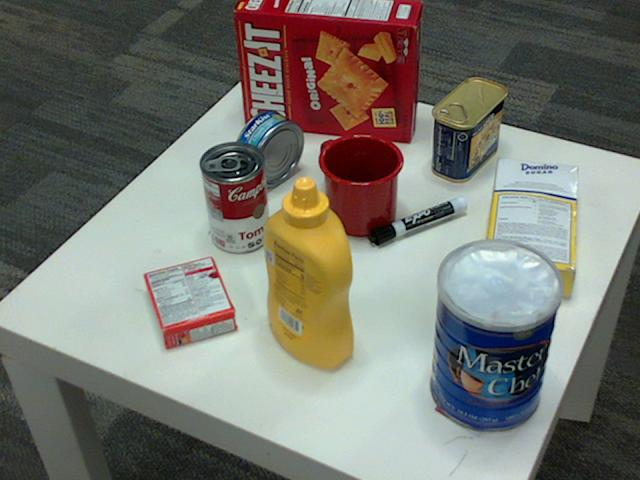cracker_box: (235, 0, 422, 141)
gelatin_box: (139, 255, 233, 348)
large_marker: (369, 200, 468, 244)
master_chef_can: (431, 240, 566, 434)
mug: (316, 132, 403, 235)
mustard_bottle: (262, 178, 352, 369)
potted_meat_can: (430, 79, 505, 182)
sugar_box: (479, 157, 577, 300)
tomato_soup_can: (199, 142, 269, 254)
tuna_fish_can: (232, 109, 303, 187)
